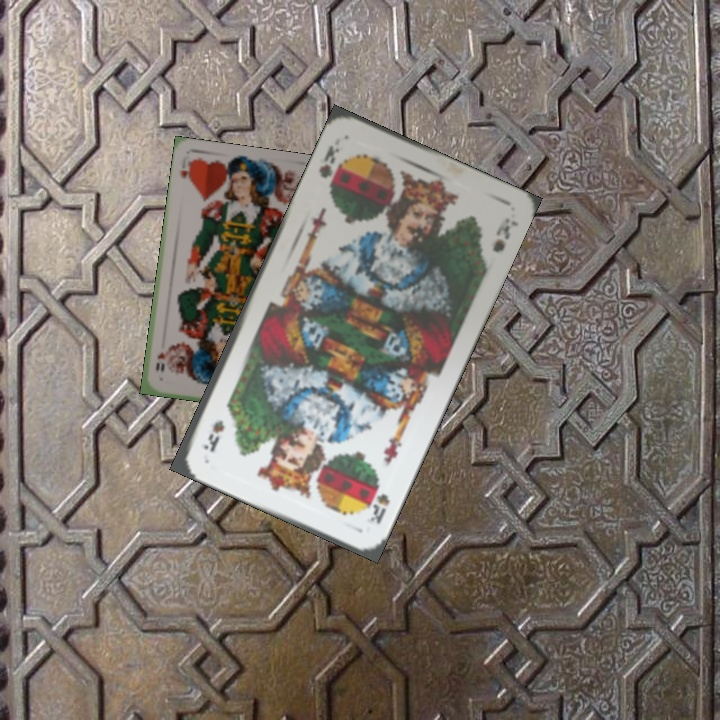HO: (176, 154, 195, 181)
SK: (314, 141, 342, 181), (366, 489, 393, 527)
